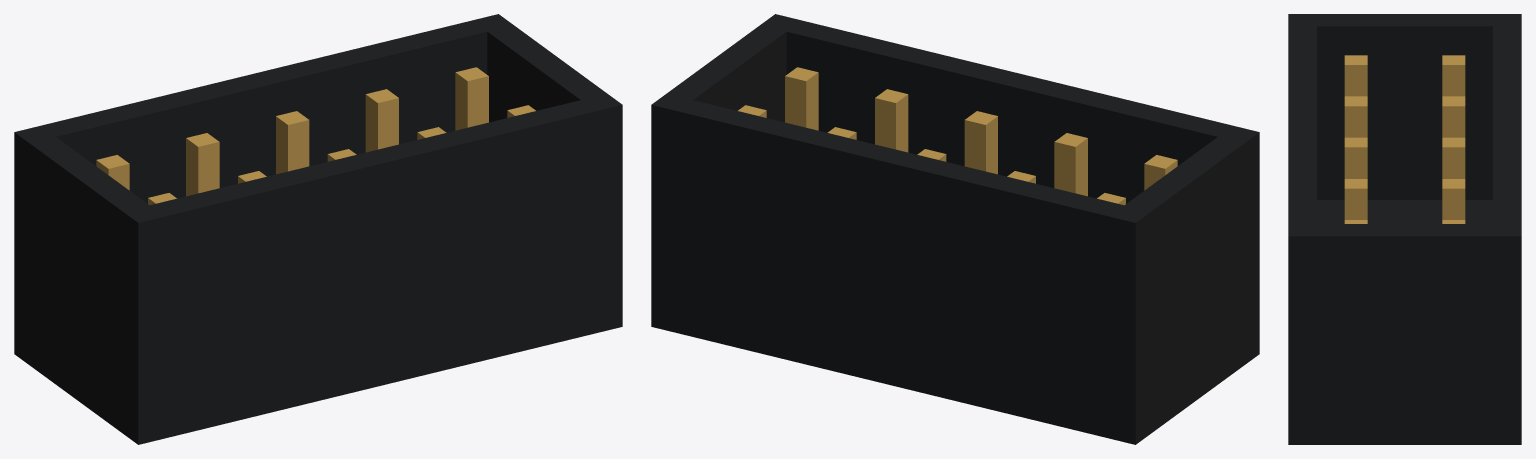
The model's file is L130_JCOM1.fbx.
The picture shows the model from 3 angles, left to right: view 1: azimuth 30°, elevation 25°; view 2: azimuth 150°, elevation 25°; view 3: azimuth 270°, elevation 25°; orthographic projection. The views are drawn at different scales.
Visible parts, largest first — view 1: JCOM1__Plastic, JCOM1__Gold; view 2: JCOM1__Plastic, JCOM1__Gold; view 3: JCOM1__Plastic, JCOM1__Gold.
Part boxes in pixels (x1=…): JCOM1__Plastic: x1=14, y1=14, x2=622, y2=444; JCOM1__Gold: x1=96, y1=67, x2=535, y2=205; JCOM1__Plastic: x1=651, y1=14, x2=1259, y2=444; JCOM1__Gold: x1=738, y1=67, x2=1177, y2=205; JCOM1__Plastic: x1=1288, y1=14, x2=1521, y2=444; JCOM1__Gold: x1=1344, y1=55, x2=1465, y2=223.
Bounding box in the file's own units: 13.7 × 6 × 6.08.
